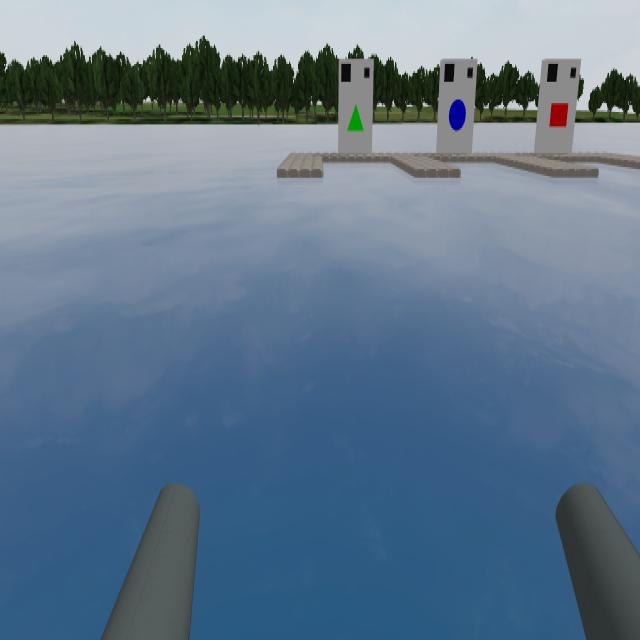dock: (442, 60, 474, 154), (339, 60, 372, 150), (544, 61, 578, 148)
